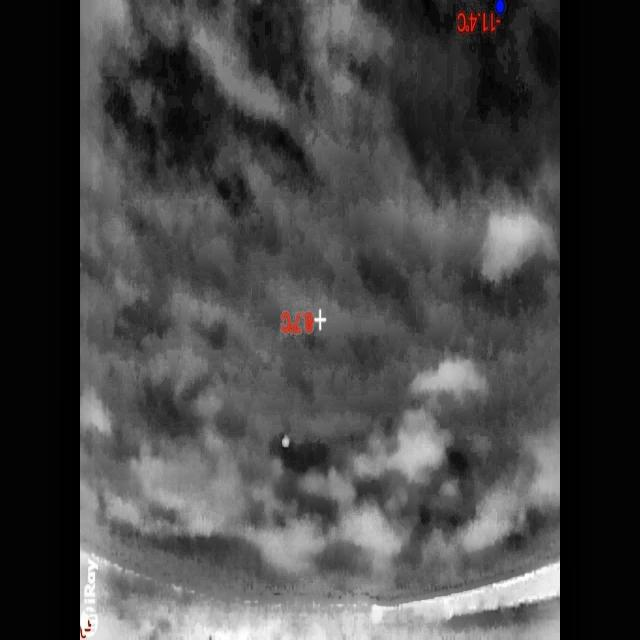drone: (281, 434, 291, 450)
